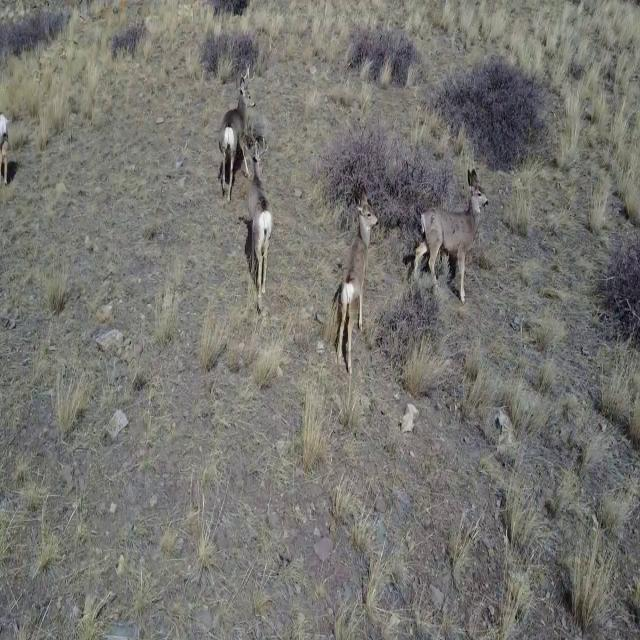Deer: (415, 166, 491, 307), (336, 189, 378, 378), (217, 60, 260, 202), (248, 137, 278, 312)
